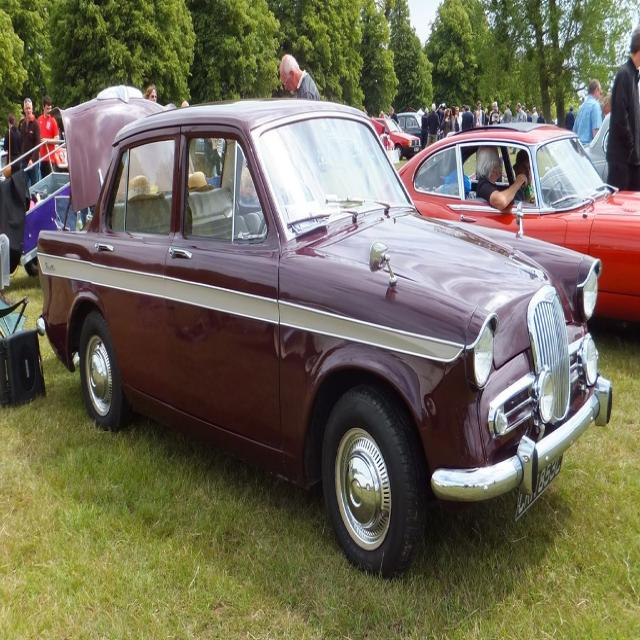car: (33, 83, 614, 581)
